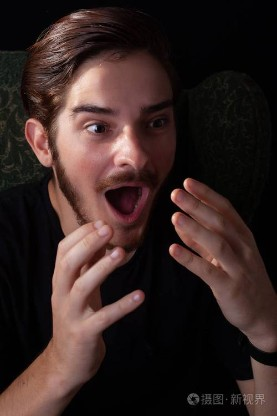张嘴: (98, 177, 155, 225)
